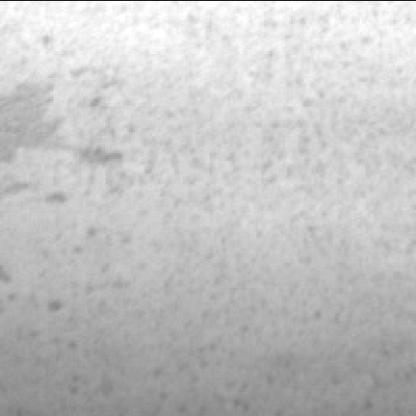pitted_surface: (0, 4, 401, 407)
